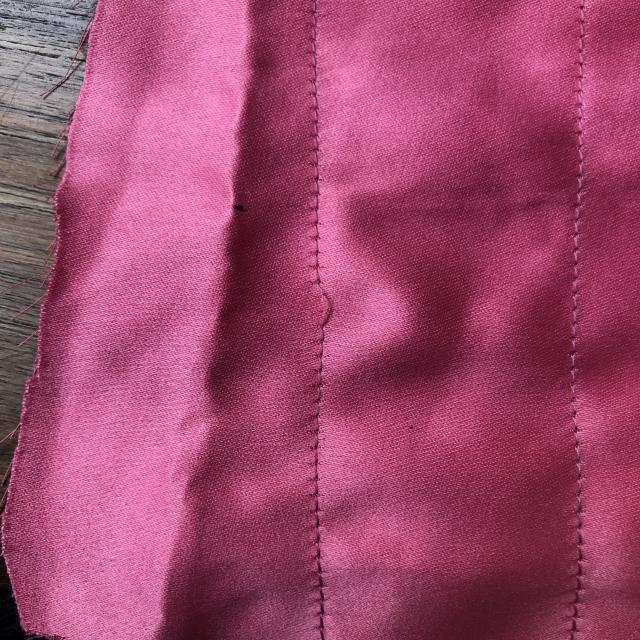skip: (296, 266, 356, 341)
